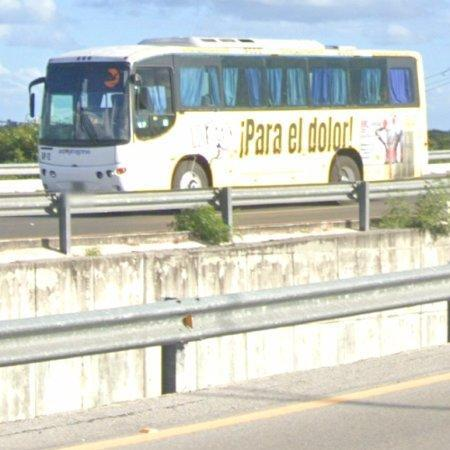buses: (29, 37, 429, 193)
